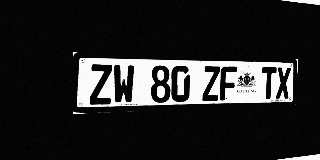0: (171, 66, 190, 102)
8: (151, 65, 171, 103)
F: (220, 66, 237, 101)
T: (261, 67, 277, 99)
W: (113, 65, 135, 104)
X: (276, 67, 291, 99)
Z: (89, 64, 112, 105), (202, 66, 220, 101)
